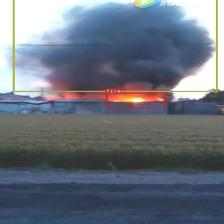fire: (106, 93, 166, 108)
smoke: (12, 0, 218, 92)
